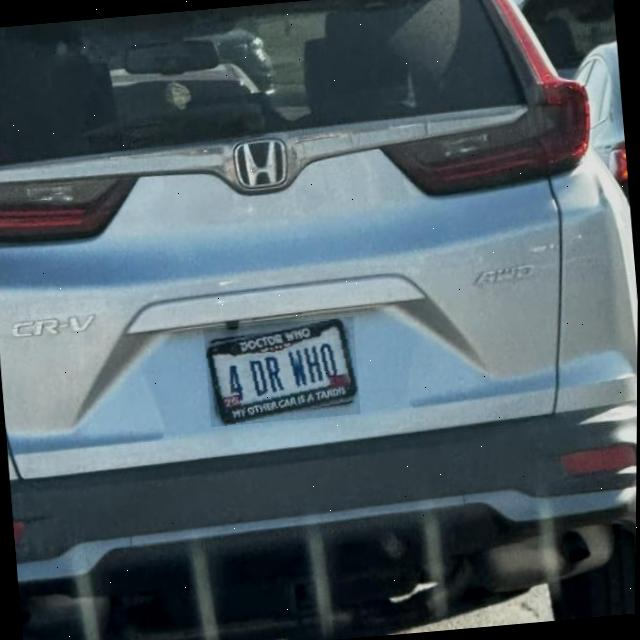LicensePlate: (205, 317, 359, 426)
